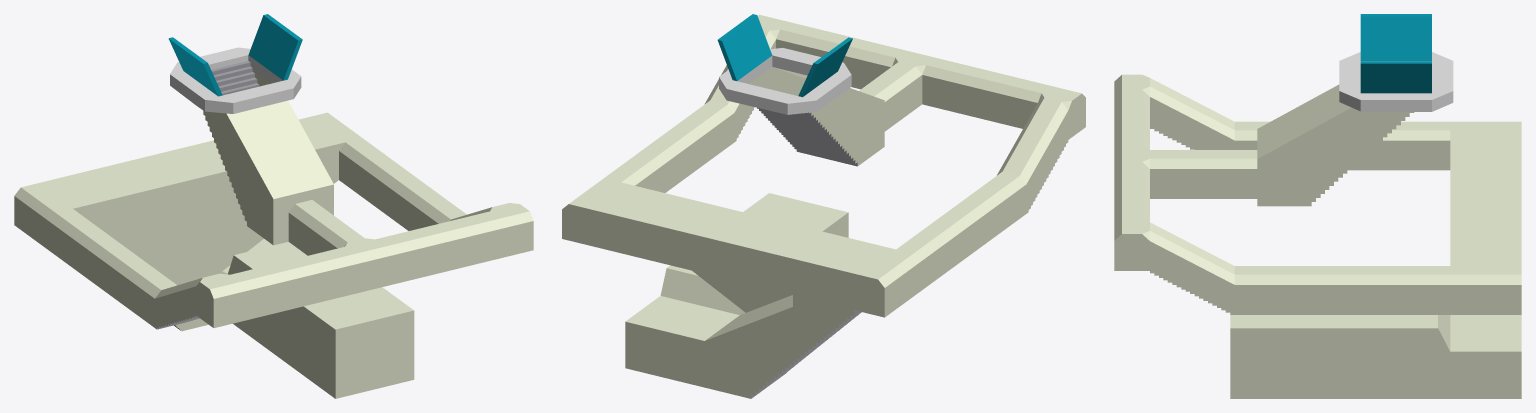
Rendered from Bunker2.fbx.
3 renders of one model, left to right at view 1: azimuth 30°, elevation 25°; view 2: azimuth 150°, elevation 25°; view 3: azimuth 270°, elevation 25°, orthographic. The views are drawn at different scales.
Parts seen in each view (by area): view 1: Bunker2; view 2: Bunker2; view 3: Bunker2.
Part boxes in pixels (left/top/right/bottom): Bunker2: left=14, top=14, right=533, bottom=398; Bunker2: left=562, top=14, right=1085, bottom=398; Bunker2: left=1114, top=14, right=1521, bottom=398.
Size of the model in its own units: 20.72 by 18.88 by 22.38.
